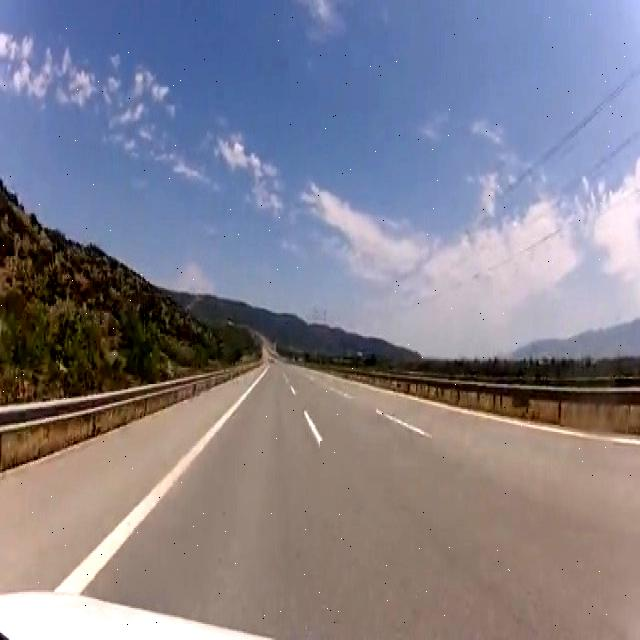lane: (57, 366, 269, 594), (376, 410, 431, 437), (304, 411, 322, 446)
road: (85, 359, 640, 636), (1, 366, 262, 592)
